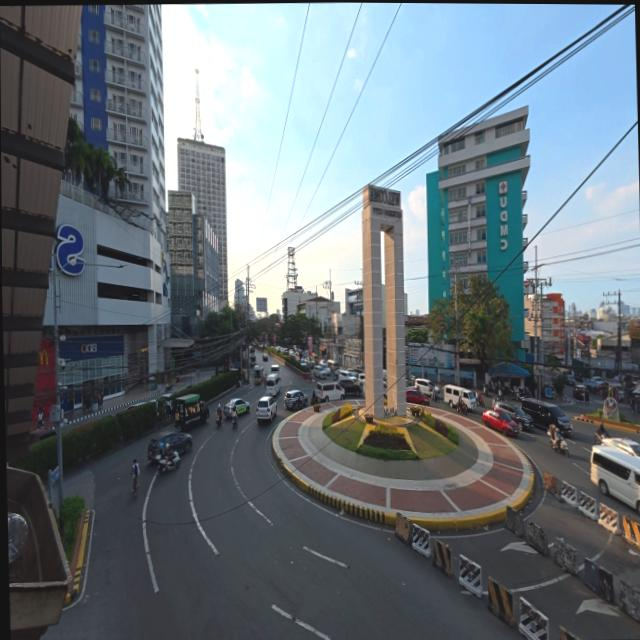car: (480, 406, 521, 437), (282, 388, 308, 410), (253, 398, 274, 424), (226, 397, 250, 415)
vans: (589, 436, 640, 519)
